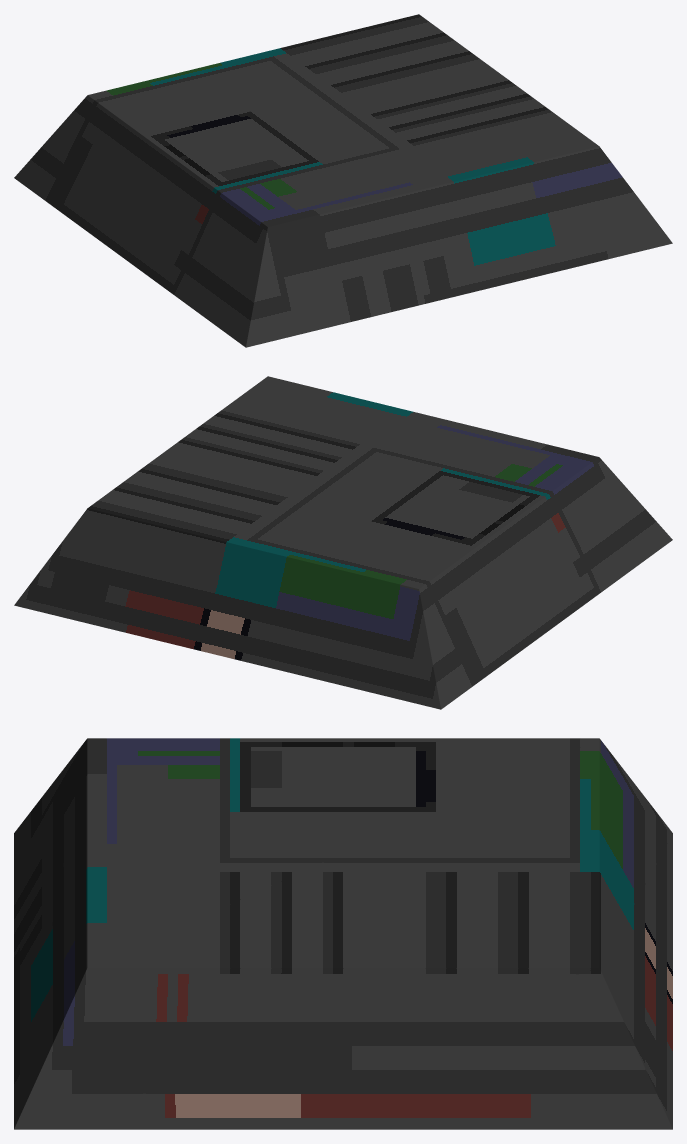
3 views of the same model, one above another, from view 1: azimuth 30°, elevation 25°; view 2: azimuth 150°, elevation 25°; view 3: azimuth 270°, elevation 25° (orthographic). The views are drawn at different scales.
Visible parts, largest first — view 1: ss3d_05_small_cpu; view 2: ss3d_05_small_cpu; view 3: ss3d_05_small_cpu.
Part boxes in pixels (bbox=[...]): ss3d_05_small_cpu: bbox=[14, 14, 672, 347]; ss3d_05_small_cpu: bbox=[14, 376, 672, 709]; ss3d_05_small_cpu: bbox=[14, 738, 672, 1129].
Bounding box in the file's own units: 1.05 × 0.2109 × 0.9844.
1 material, 1 textured.
